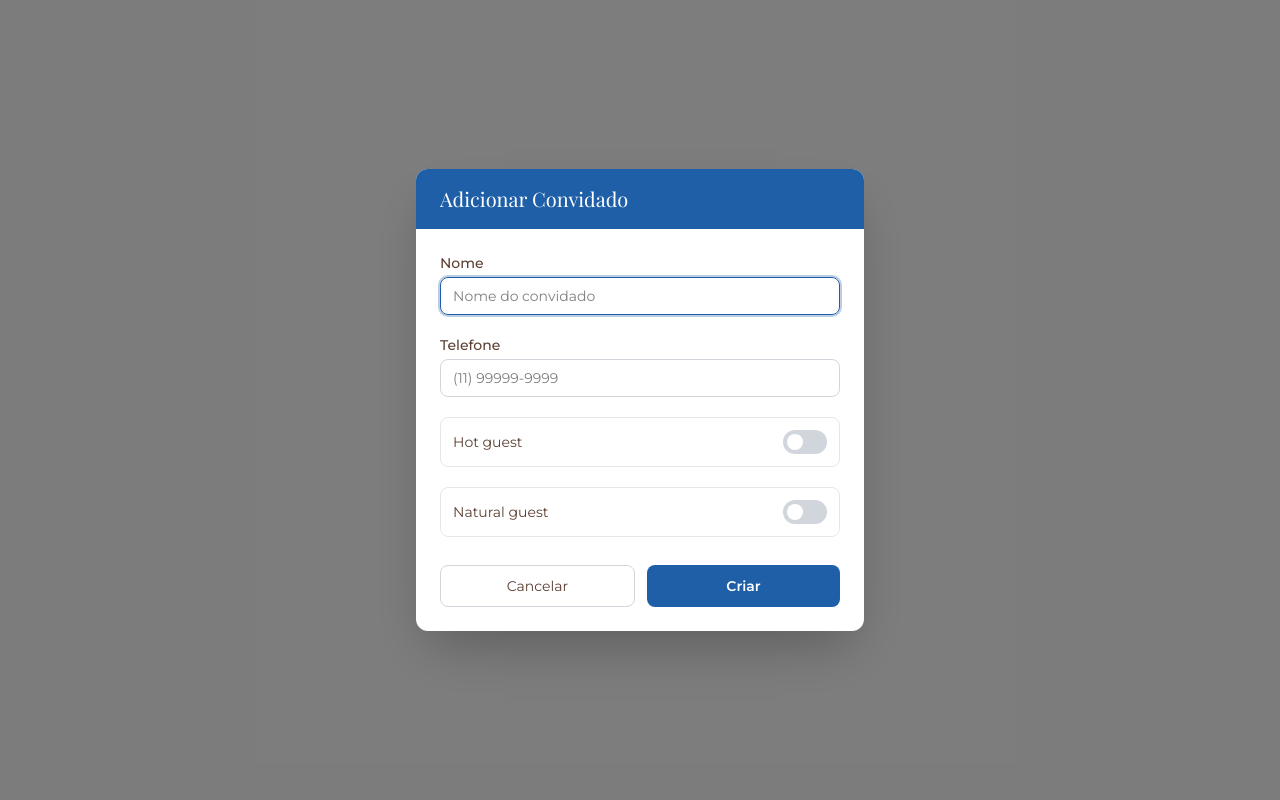
it: CreateGuestDialog › should show validation error for invalid phone format
# Fill name
Type "Maria Silva" into the field labelled "Nome" at (640, 296), box 440,277 -> 840,315
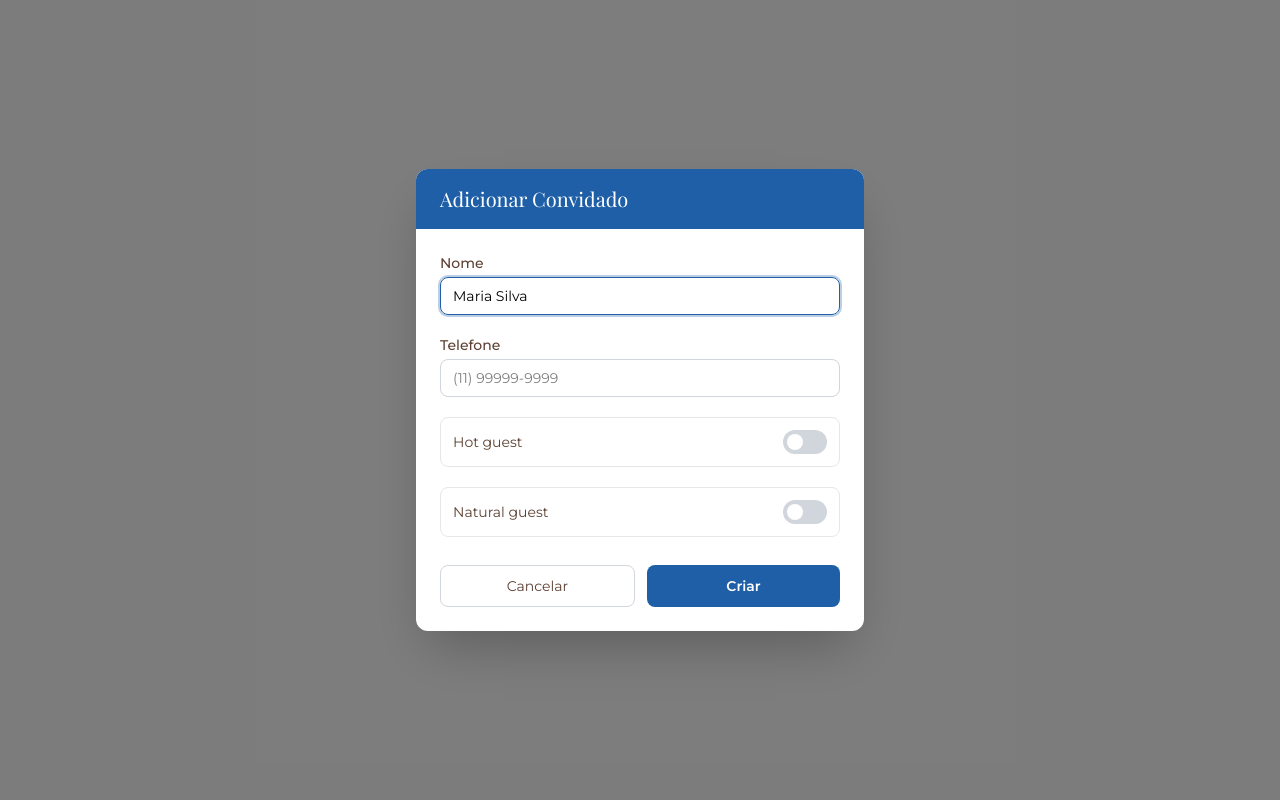
# Fill invalid phone
Type "123" into the field labelled "Telefone" at (640, 378), box 440,359 -> 840,397
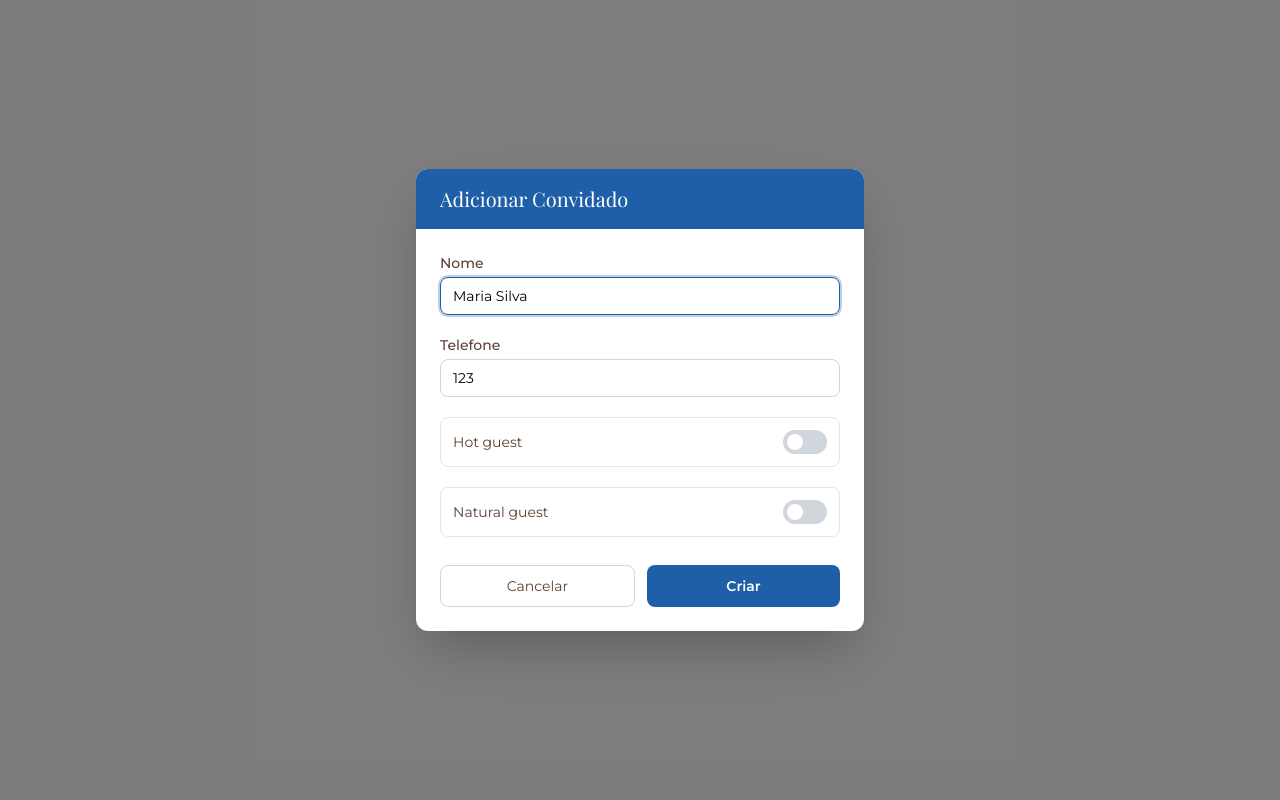
Click the button "Criar" at (744, 586), box 647,565 -> 840,607
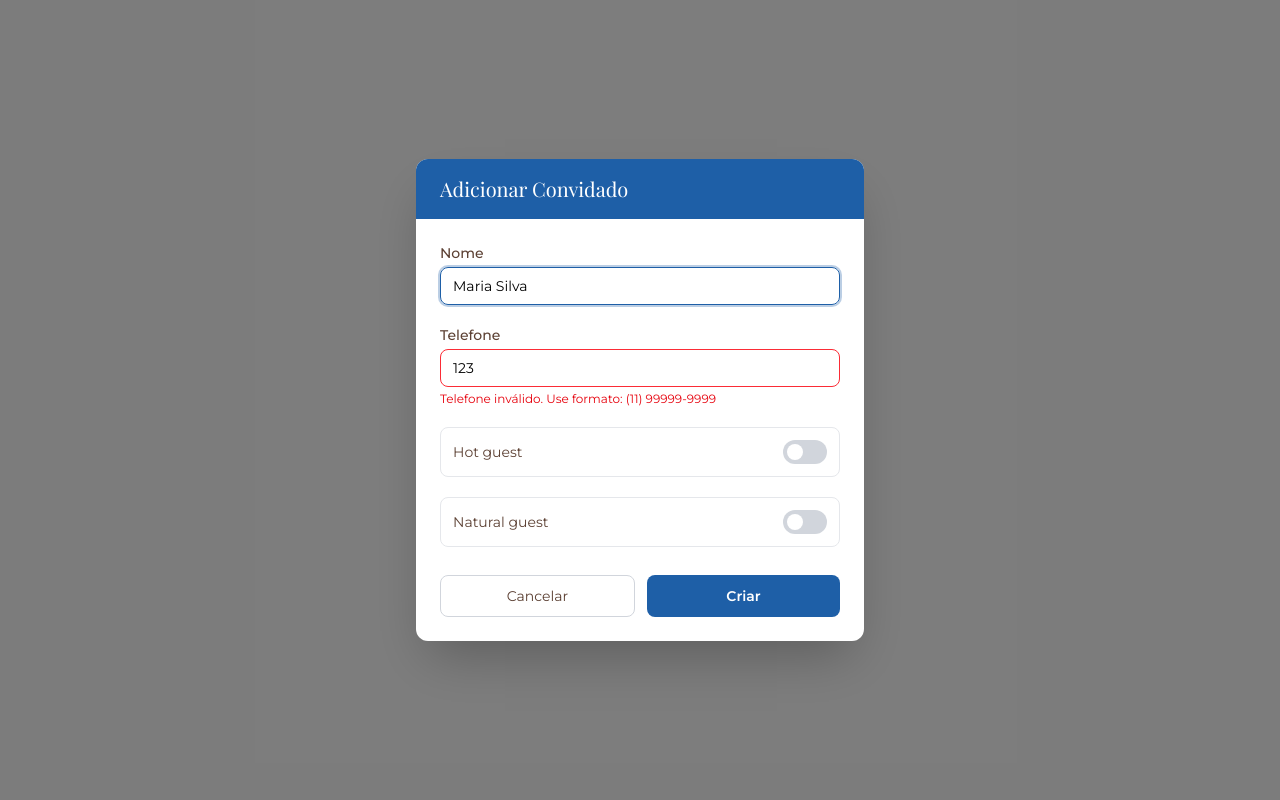
Now the text "Telefone inválido. Use formato: (11) 99999-9999" is shown, box 440,391 -> 716,406
